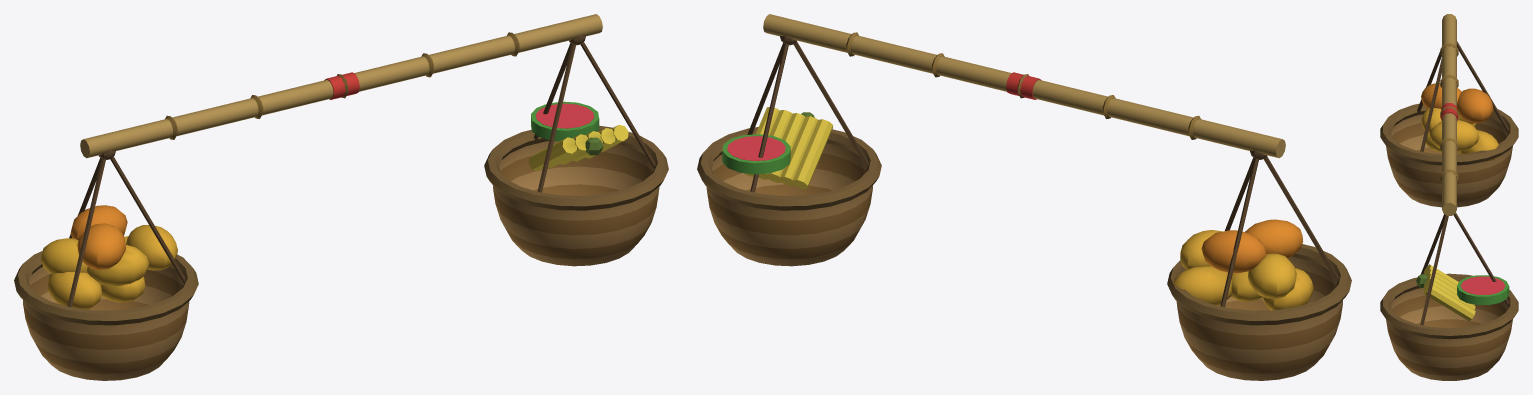
The model's file is pp-pole-traicay.glb.
3 renders of one model, left to right at view 1: azimuth 30°, elevation 25°; view 2: azimuth 150°, elevation 25°; view 3: azimuth 270°, elevation 25°, orthographic. The views are drawn at different scales.
Bounding box in the file's own units: 2.95 × 1 × 0.7424.
